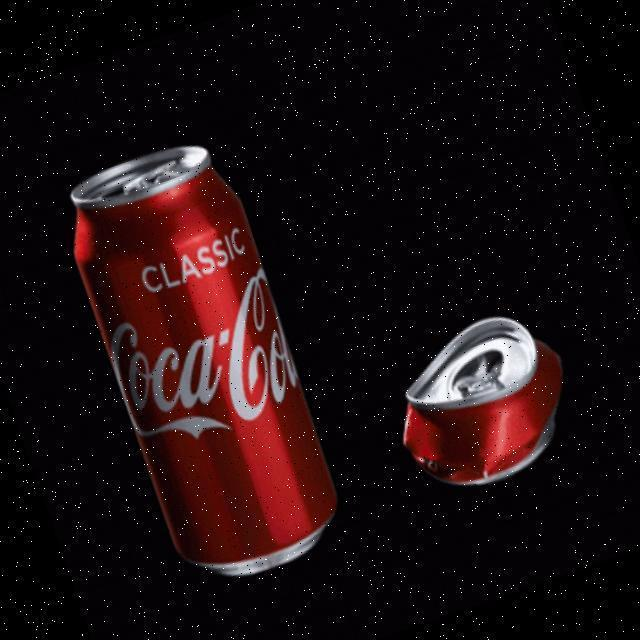cans: (62, 138, 369, 580), (400, 268, 590, 538)
